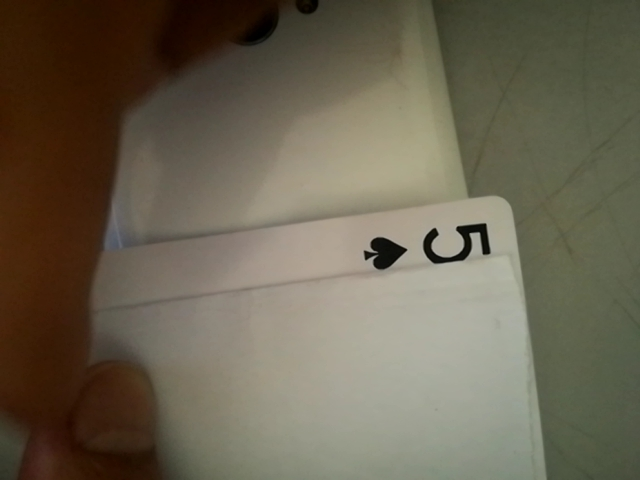ht 5: (356, 212, 503, 274)
